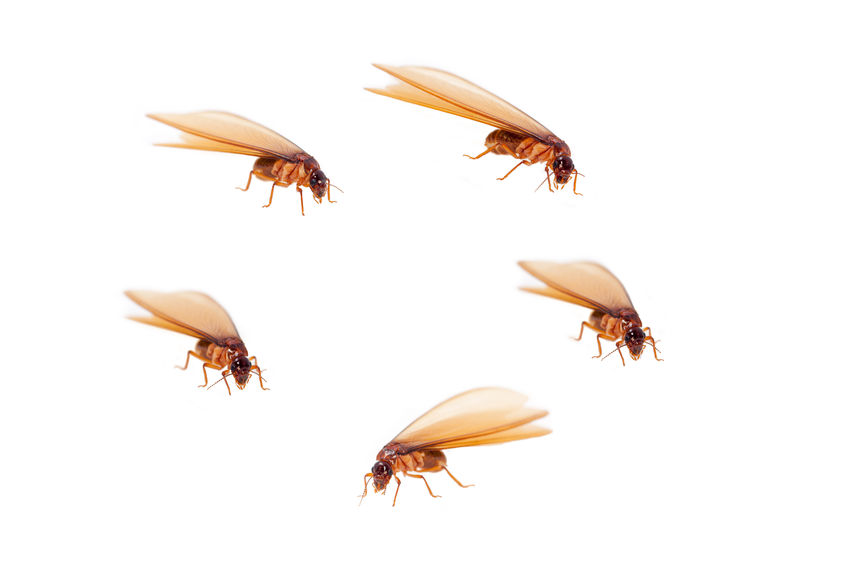flying termite: (370, 44, 588, 210), (140, 88, 353, 236), (493, 241, 690, 380), (353, 387, 563, 508), (115, 273, 282, 409)
